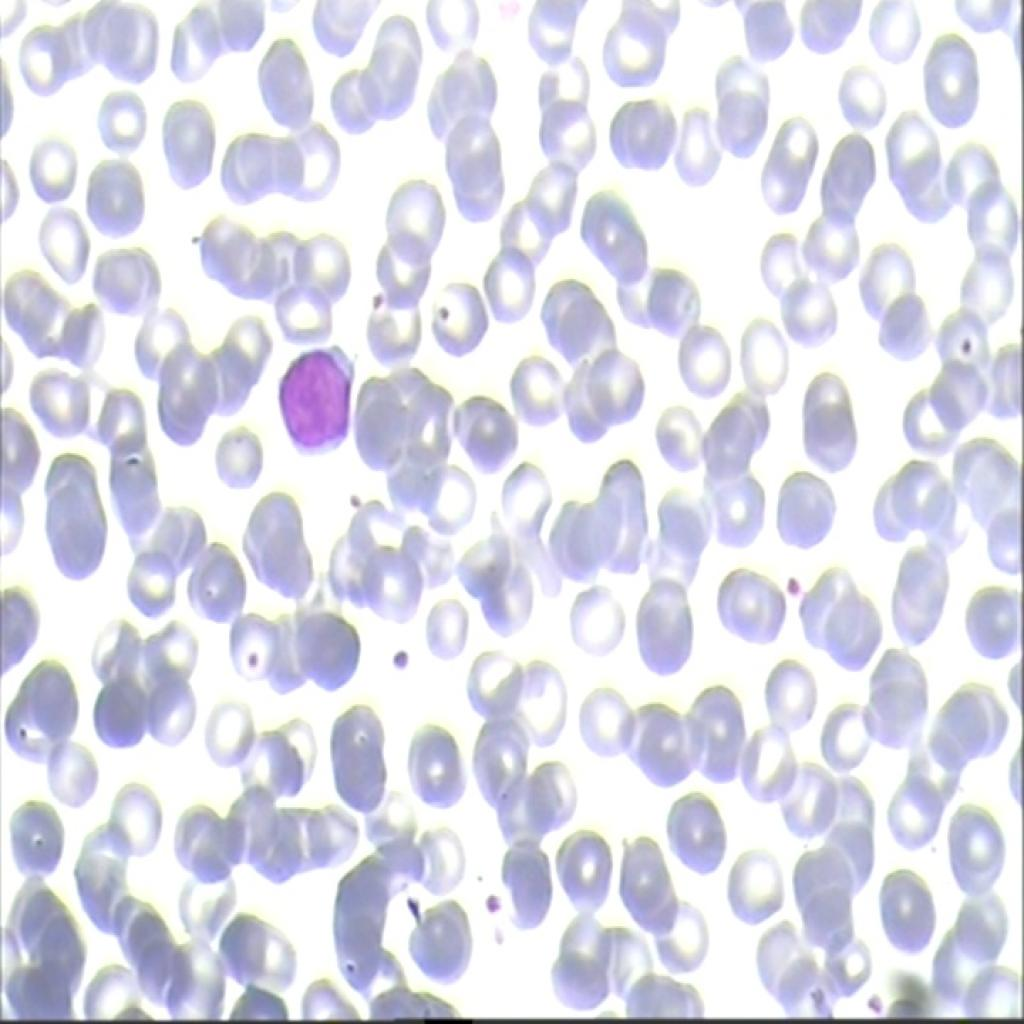Limfosit: (273, 332, 367, 468)
Platelet: (473, 875, 505, 926), (233, 634, 265, 682), (778, 558, 811, 604), (338, 476, 368, 521), (386, 640, 420, 674), (362, 278, 396, 310), (430, 295, 456, 331), (863, 983, 882, 1022), (954, 330, 980, 354)
